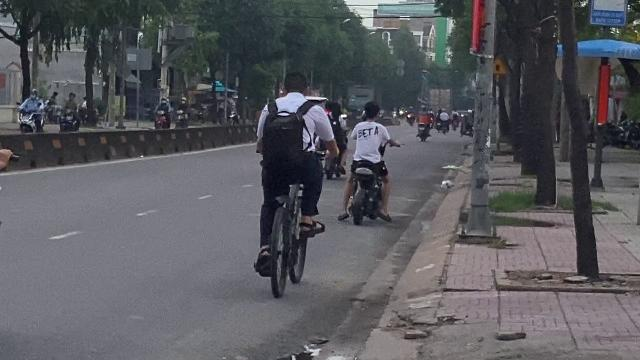motorcyclist: (338, 97, 396, 225)
nohelmet: (362, 100, 382, 122)
